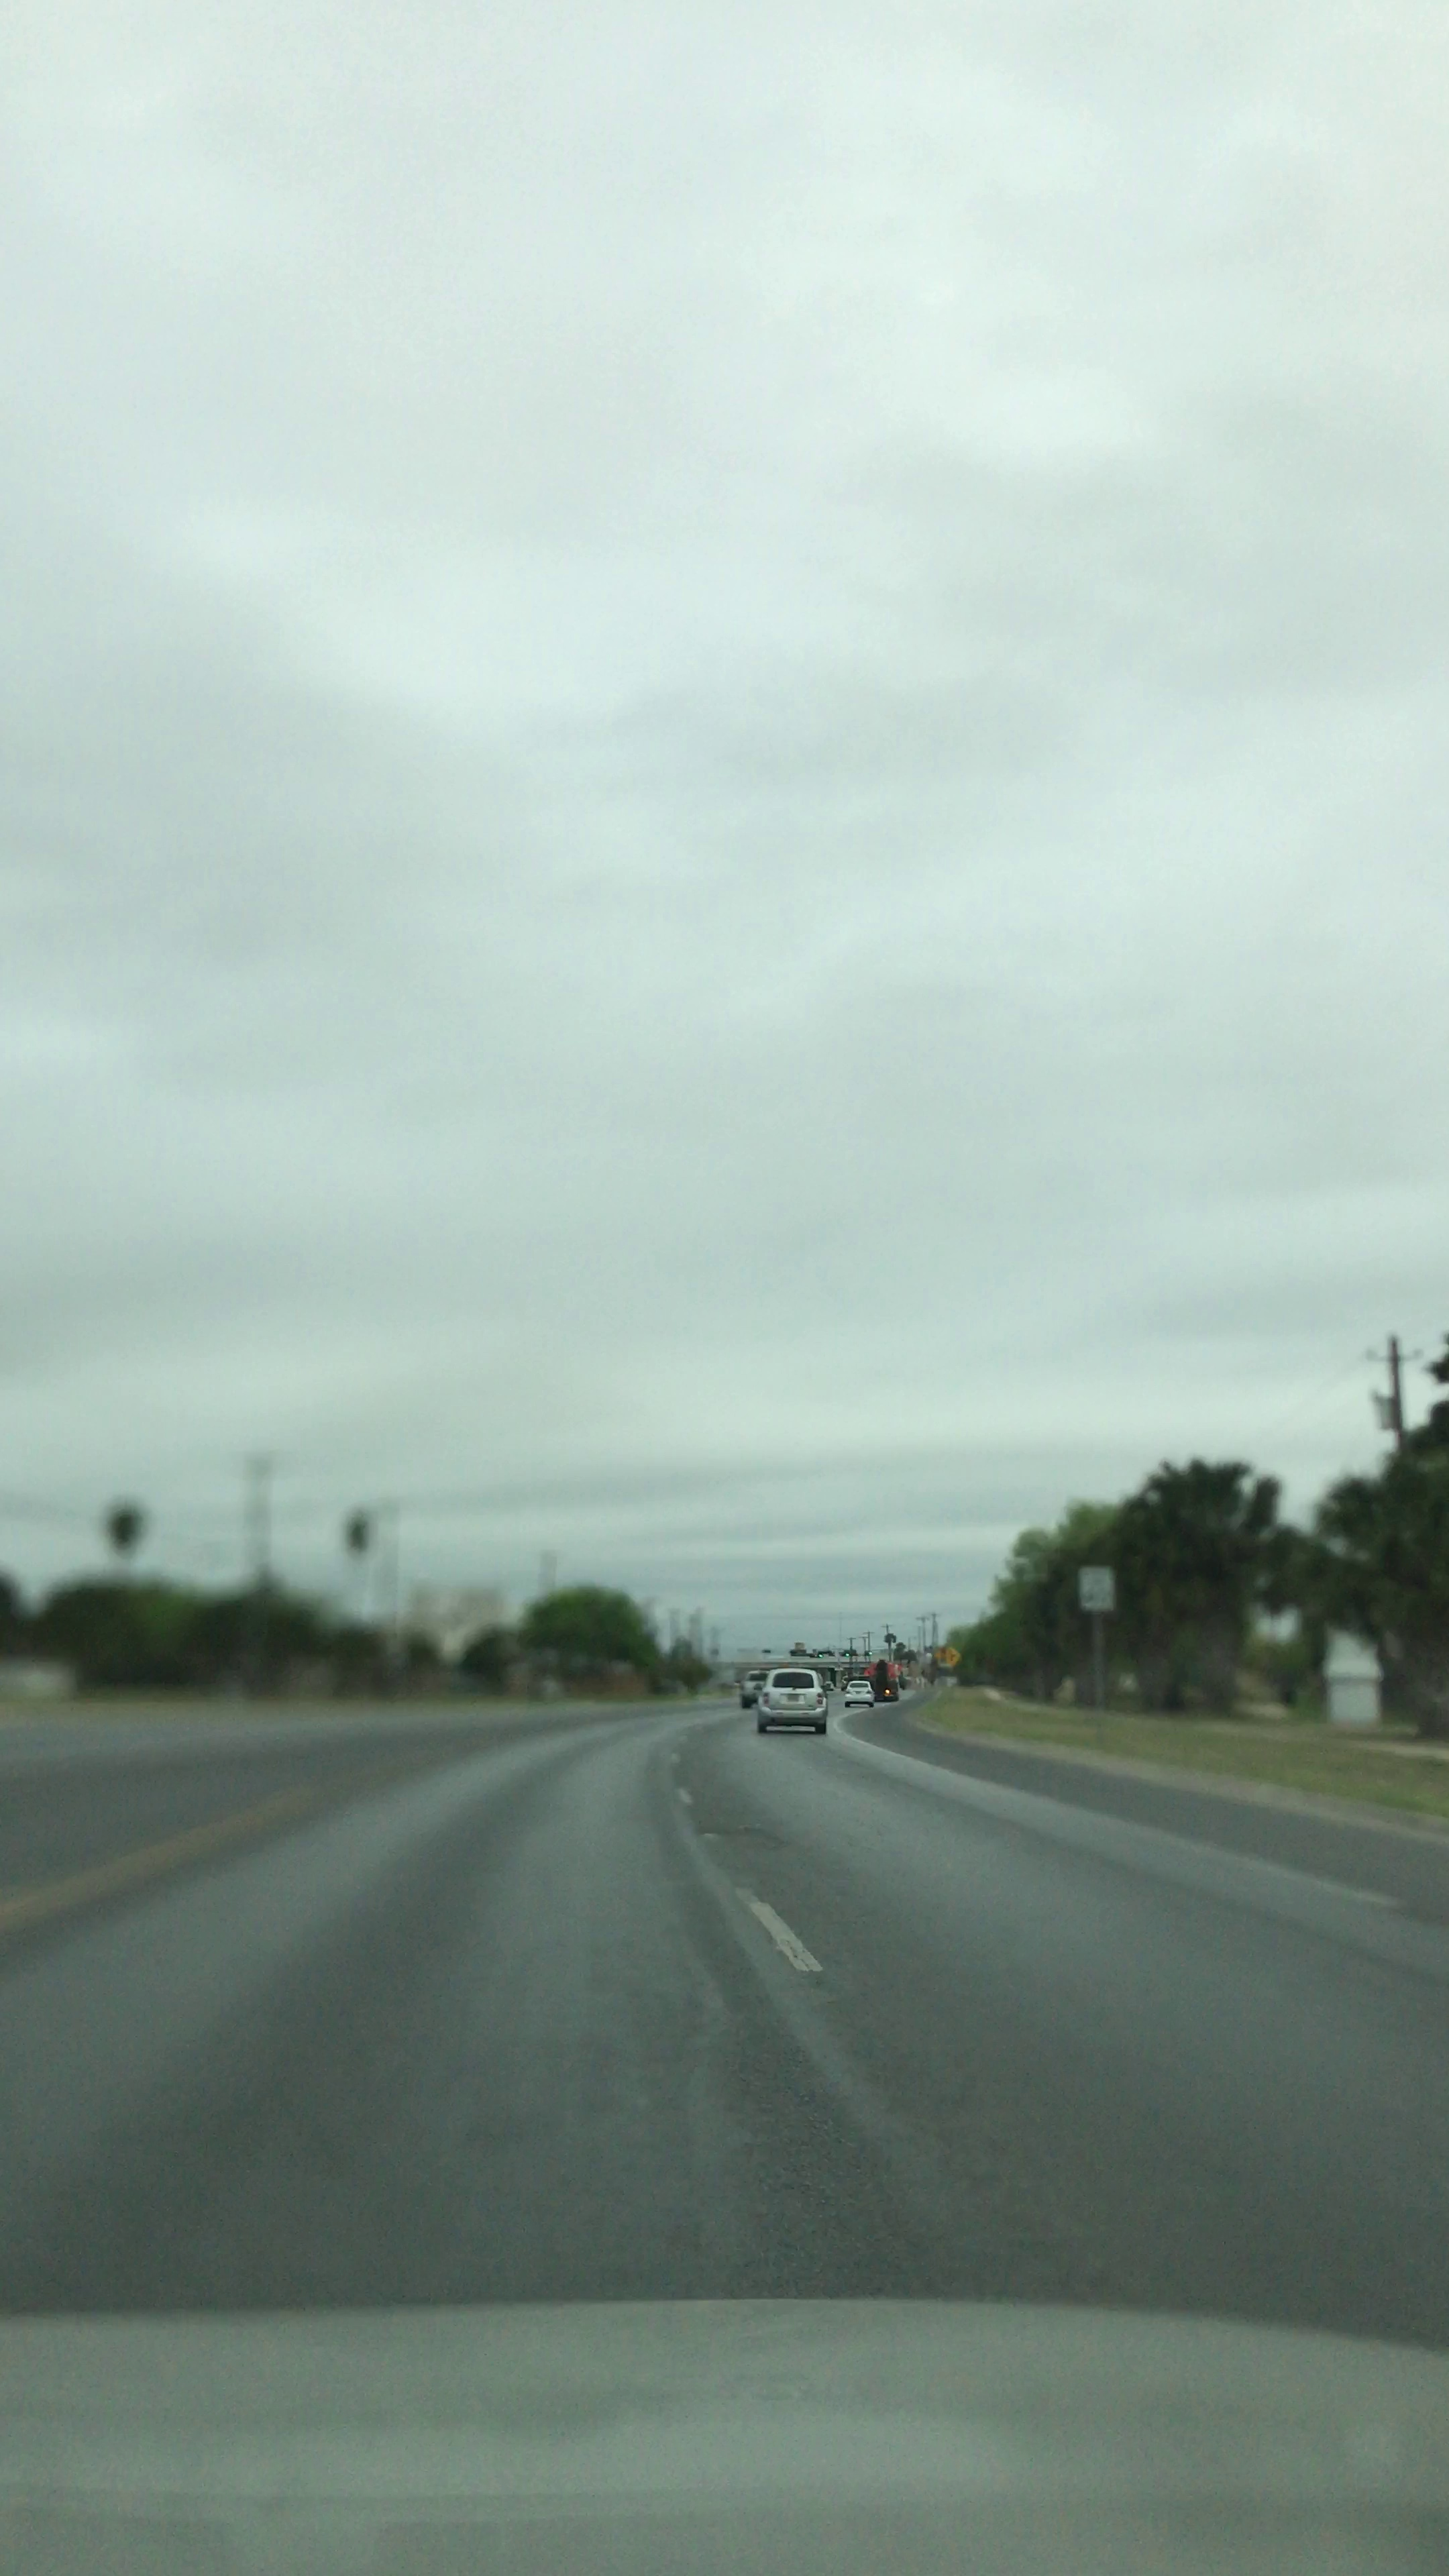pothole: (674, 1812, 793, 1868)
